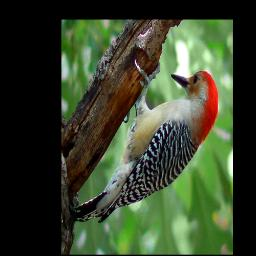Woodpecker: (71, 57, 221, 229)
